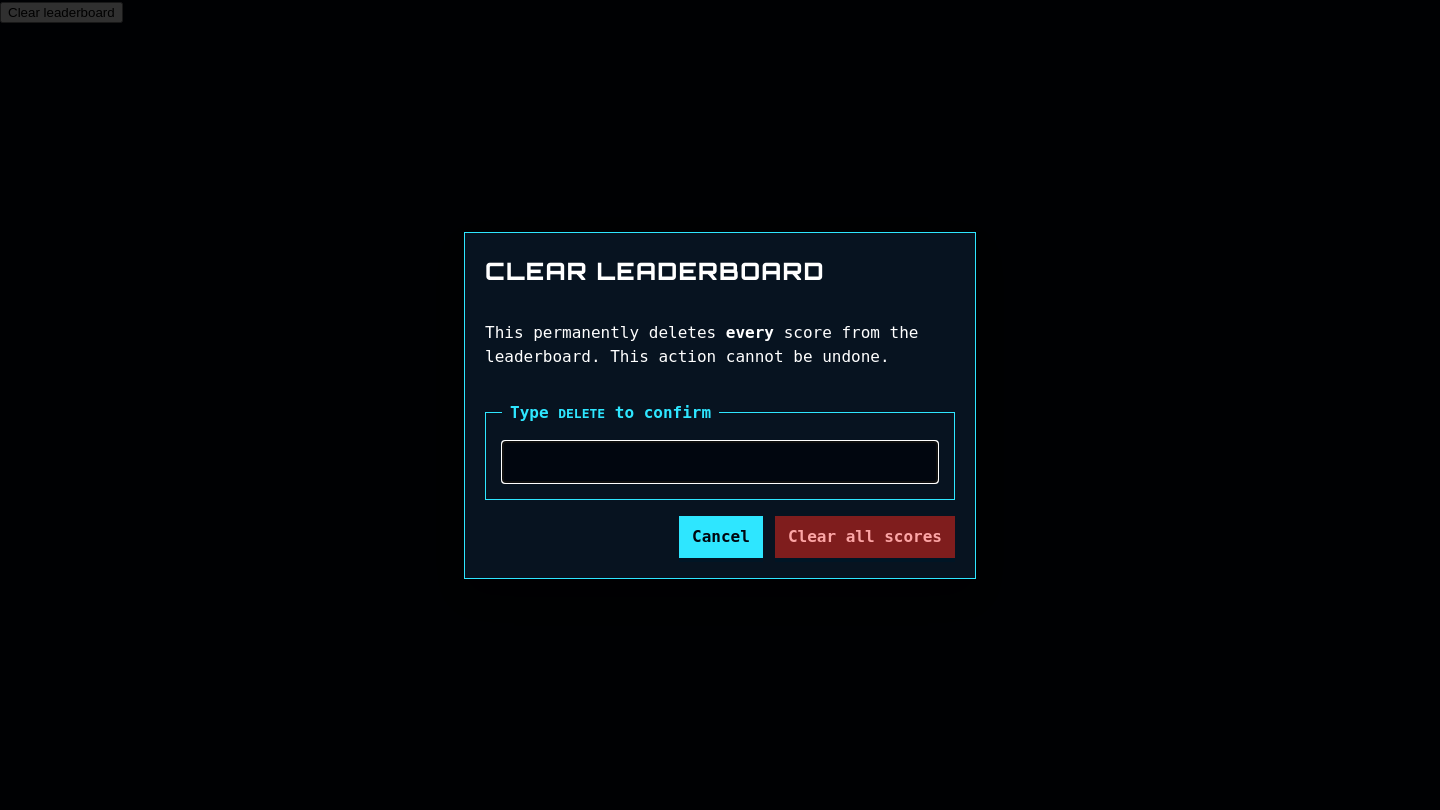
PurgeDialog › closes and reports success when the purge succeeds
The width and height of the screenshot is (1440, 810).
Type "DELETE" into the field labelled "Type DELETE to confirm" at [720, 462], box [502,440,938,482]
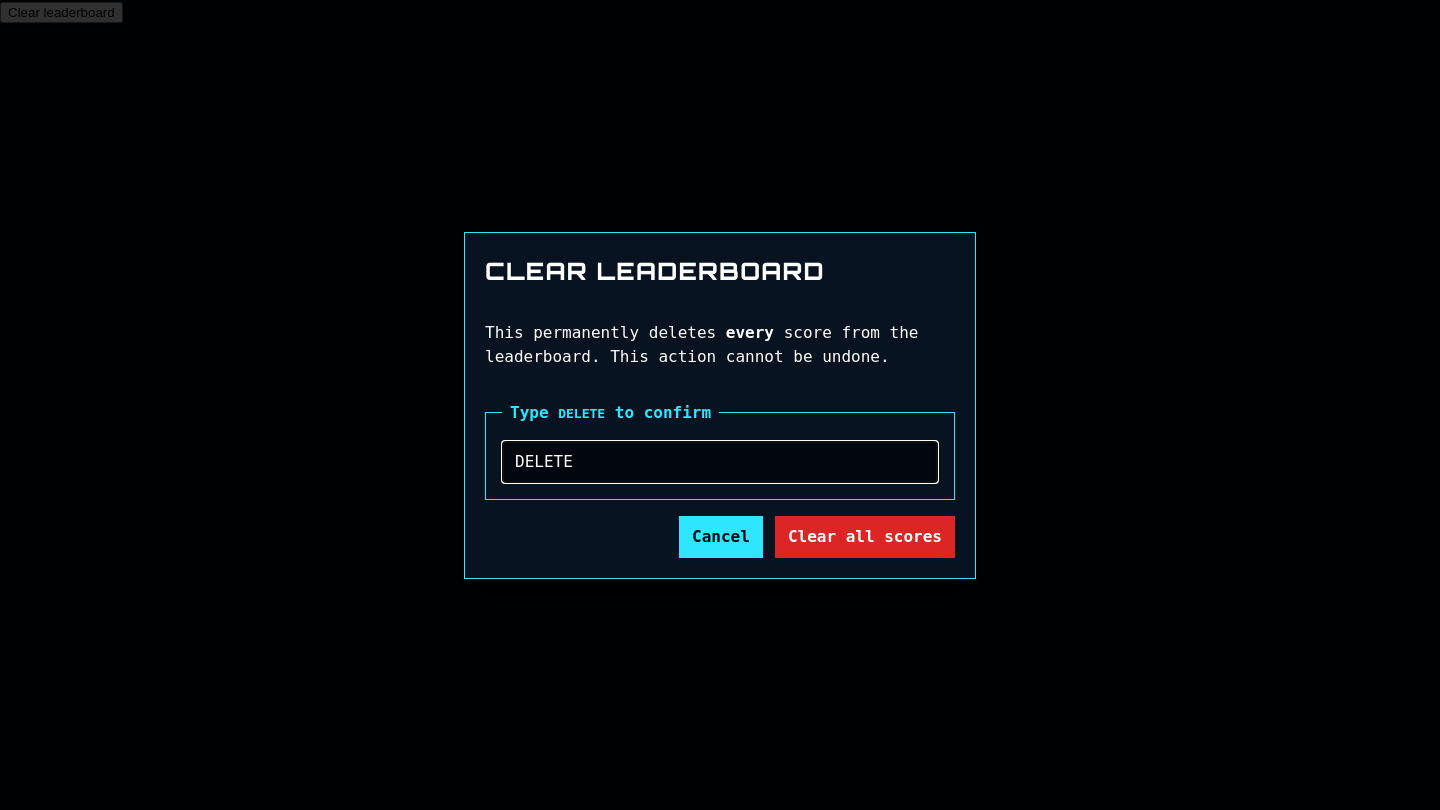
Click the button "Clear all scores" at [865, 536], box [775,516,955,558]
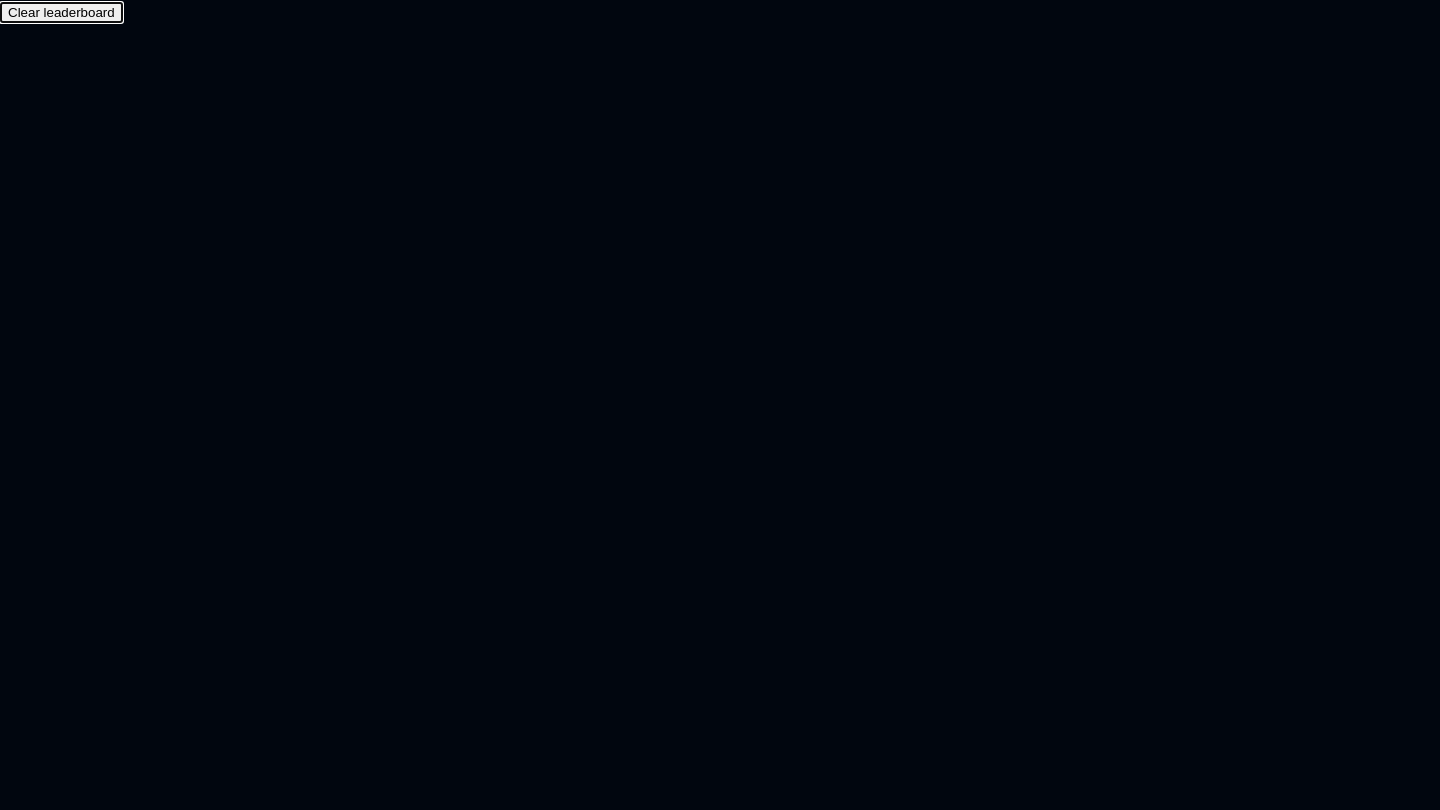
Now the dialog is gone
